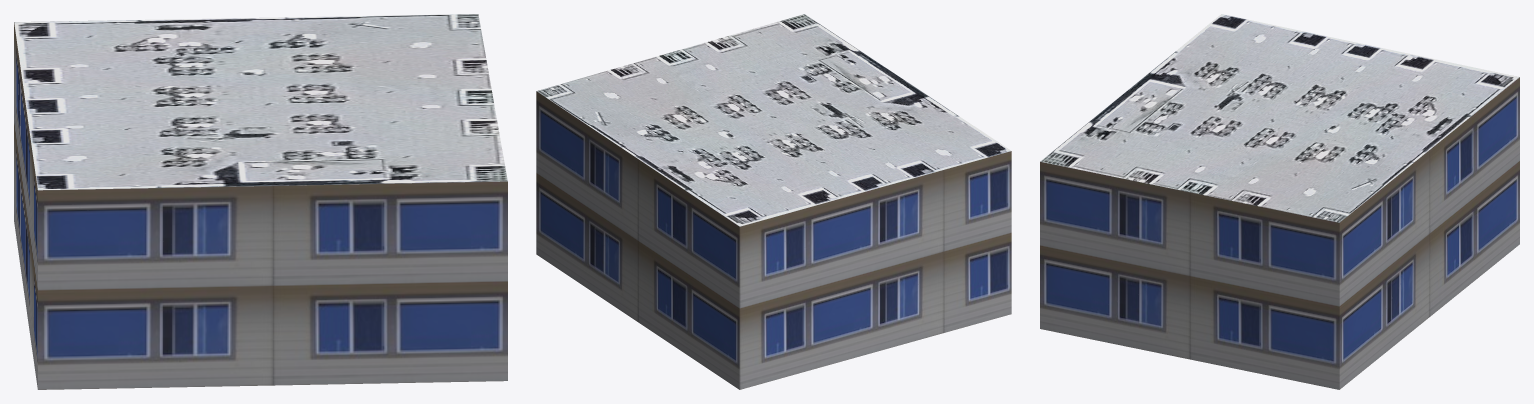
The model's file is ResTex__366.fbx.
3 renders of one model, left to right at view 1: azimuth 30°, elevation 25°; view 2: azimuth 150°, elevation 25°; view 3: azimuth 270°, elevation 25°, orthographic. The views are drawn at different scales.
Visible parts, largest first — view 1: CityEngineMaterial_23_m, CityEngineMaterial_8_m; view 2: CityEngineMaterial_23_m, CityEngineMaterial_8_m; view 3: CityEngineMaterial_23_m, CityEngineMaterial_8_m.
Boxes of the visible parts, left/top/right/bottom form: CityEngineMaterial_23_m: left=14, top=22, right=507, bottom=389; CityEngineMaterial_8_m: left=14, top=14, right=507, bottom=190; CityEngineMaterial_23_m: left=536, top=91, right=1011, bottom=389; CityEngineMaterial_8_m: left=536, top=14, right=1010, bottom=226; CityEngineMaterial_23_m: left=1040, top=77, right=1519, bottom=389; CityEngineMaterial_8_m: left=1040, top=14, right=1519, bottom=222.
Size of the model in its own units: 16.07 by 6 by 15.6.
Materials: 2 (2 with a texture image).
